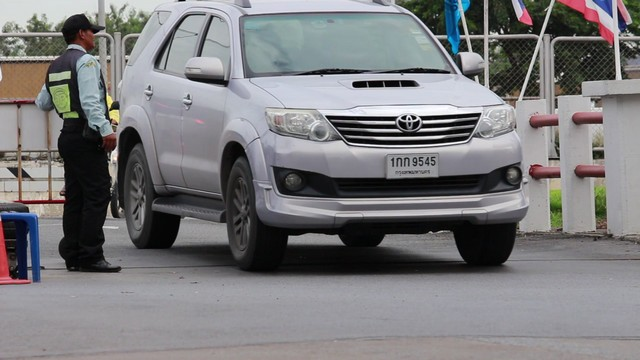in: (388, 156, 438, 177)
out: (383, 152, 441, 182)
